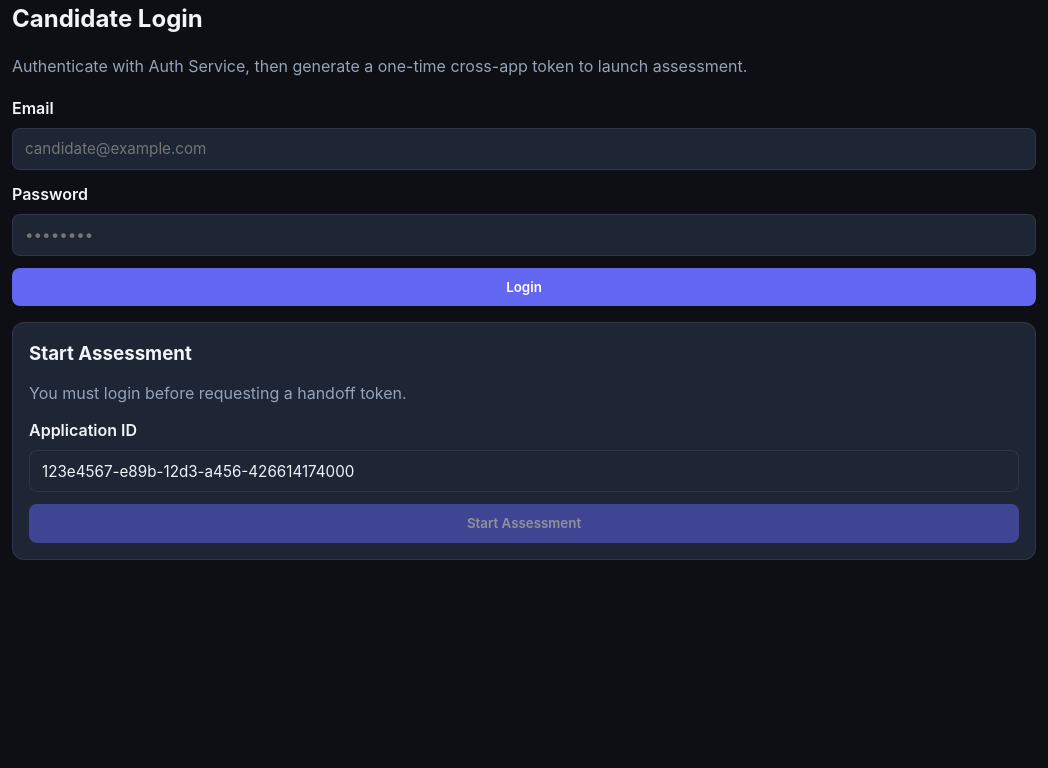
Test: AuthPanel › shows login success state and enables start assessment
Step 1. Type "a@b.com" into the field labelled "Email" → (524, 149), box [12,128,1036,170]
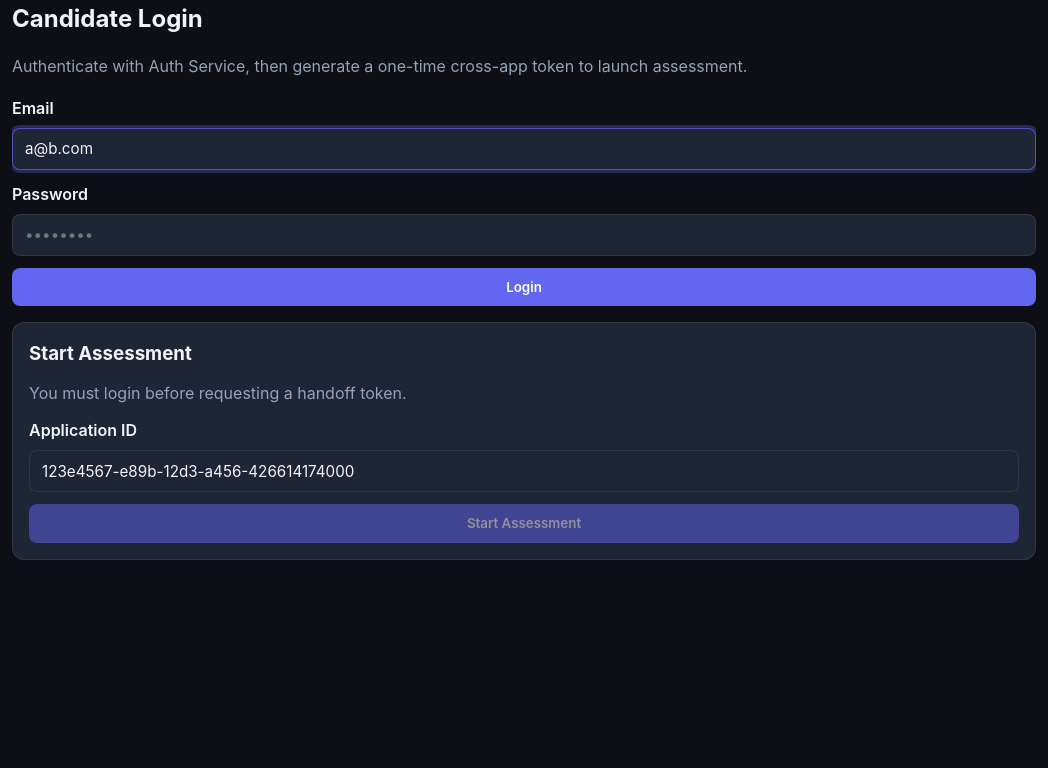
Step 2. Type "Password@123" into the password field labelled "Password" → (524, 235), box [12,214,1036,256]
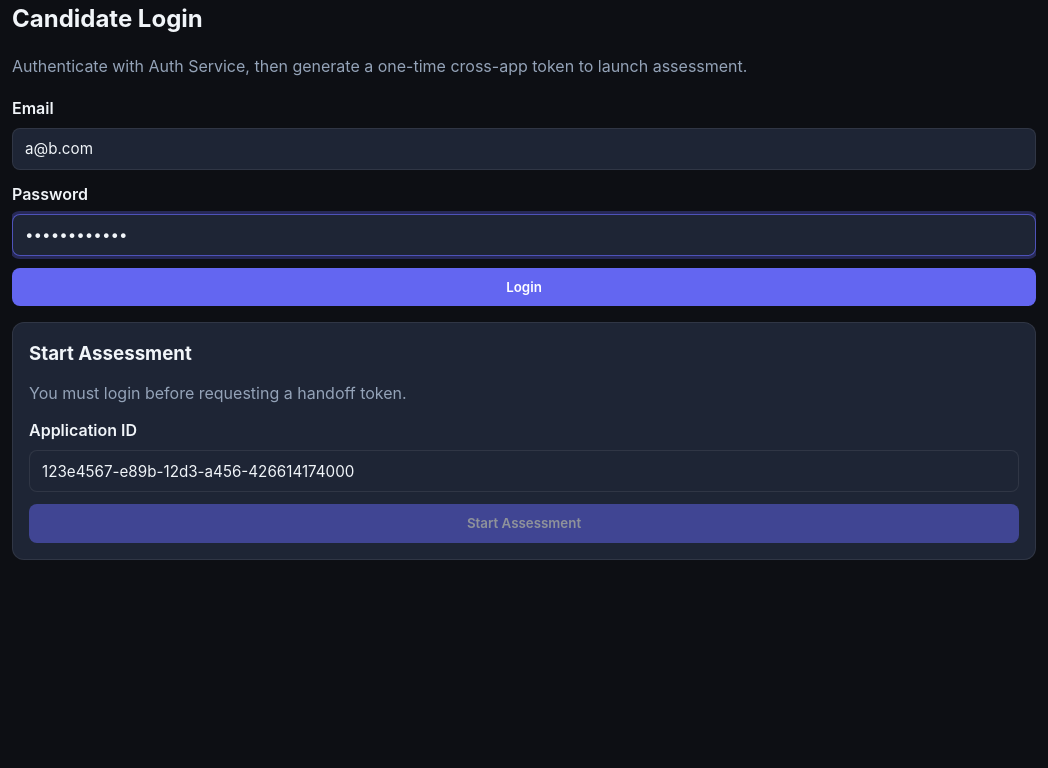
Step 3. Click the button "Login" → (524, 287), box [12,268,1036,306]
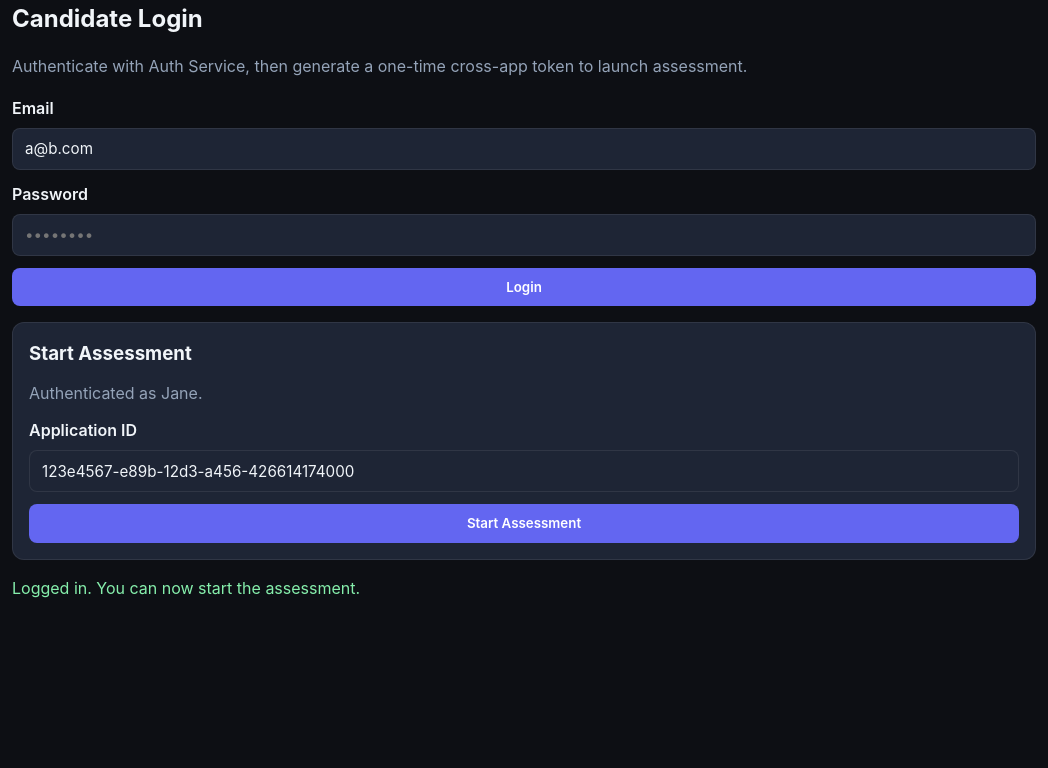
Expected: the text "Logged in. You can now start the assessment." is shown, [12,578,360,598]
Expected: the button "Start Assessment" is enabled, [29,504,1019,543]
